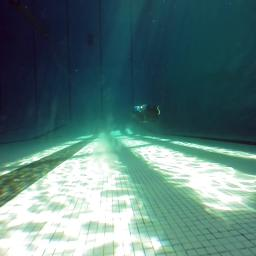Full: (87, 40, 96, 46)
front: (131, 102, 159, 125)
